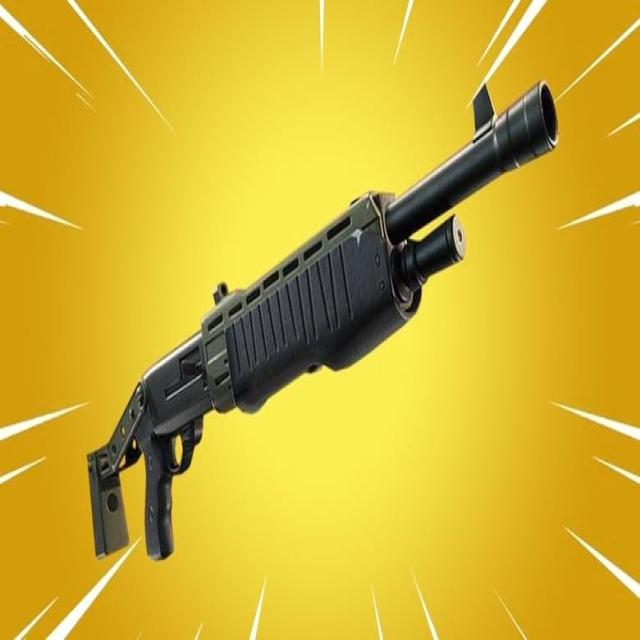ShotGun: (87, 83, 559, 564)
